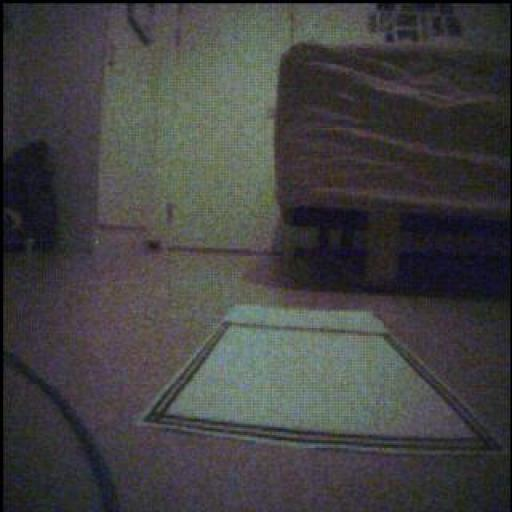pad: (142, 307, 500, 454)
